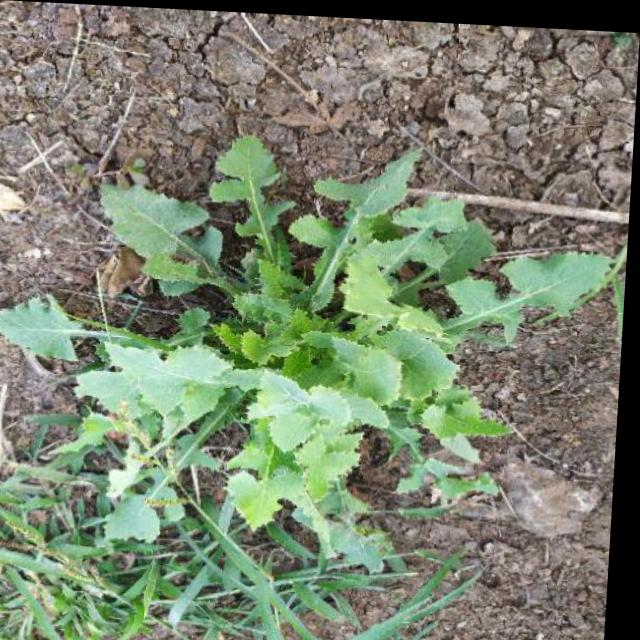weed: (0, 90, 621, 615)
